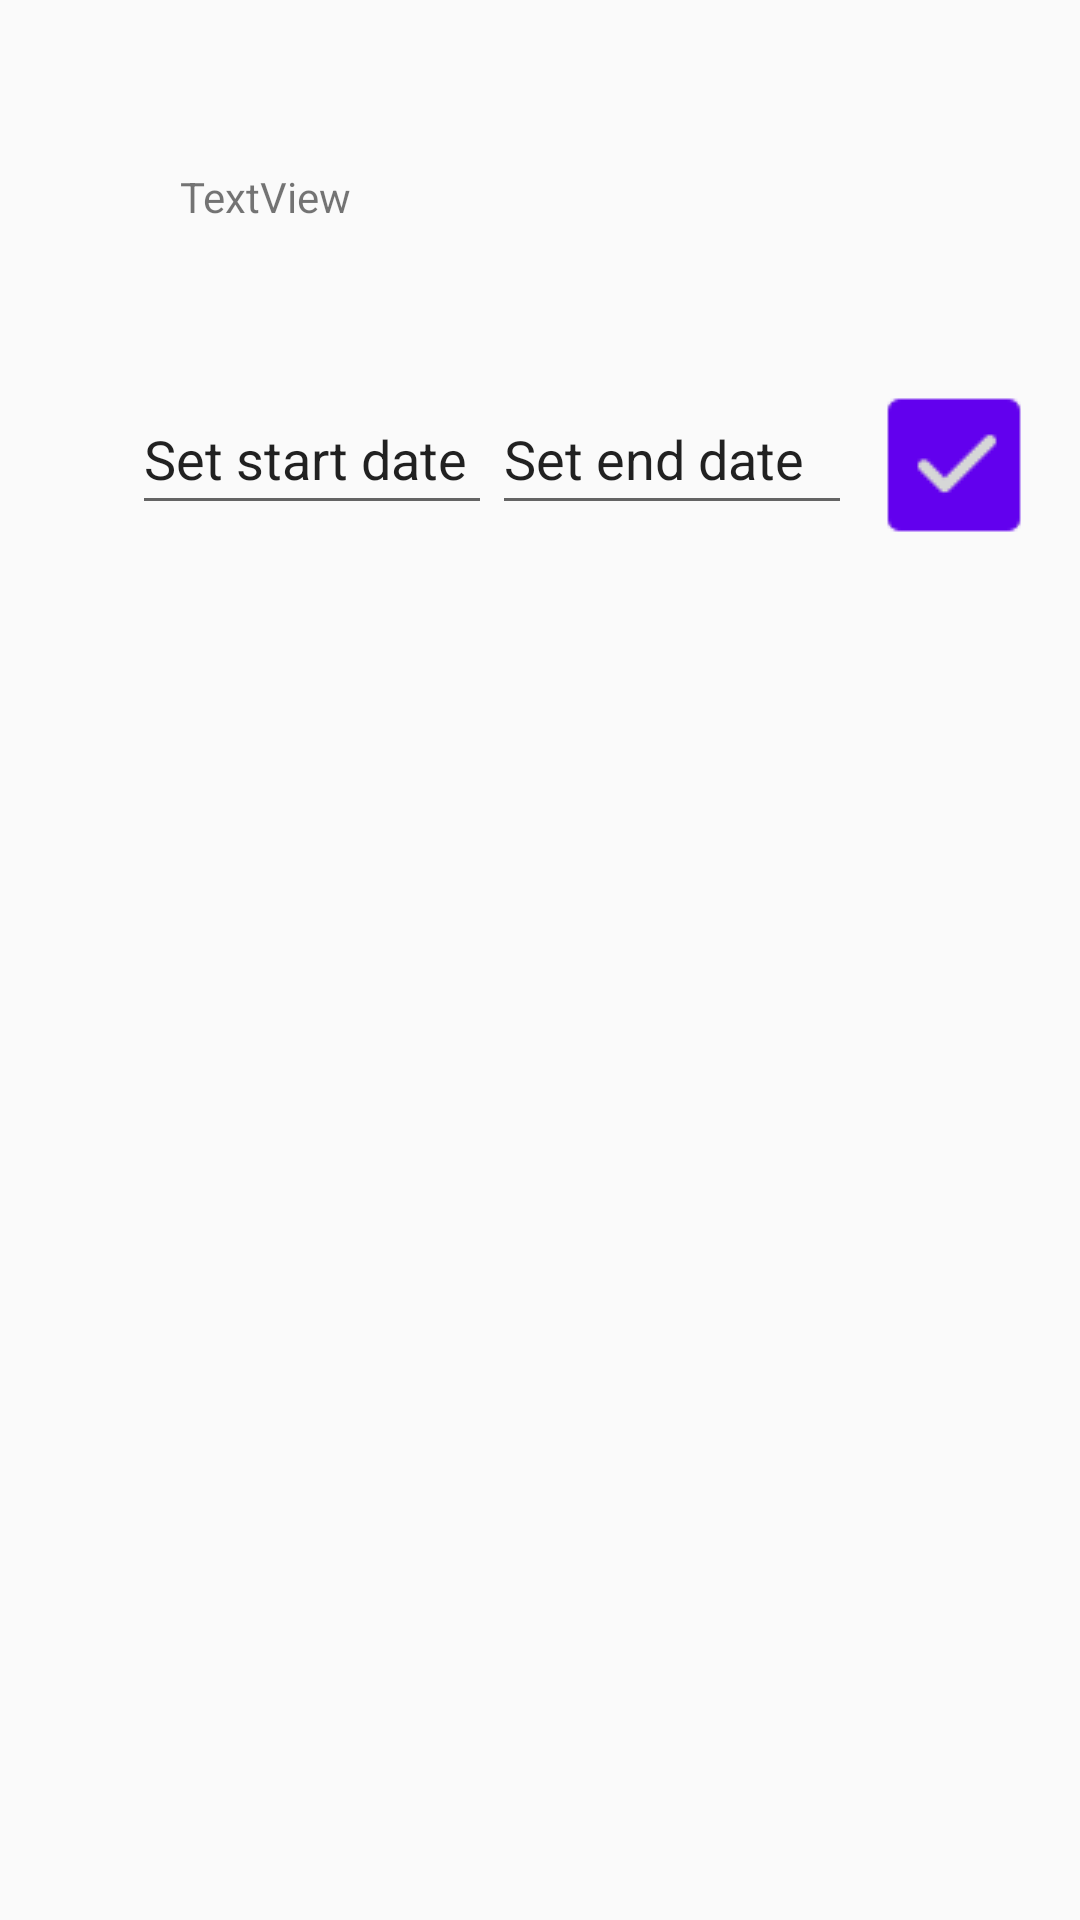

Screen size 1080w x 1920h. Icon name, then its box in pixels as (x1, y1, x2, y2):
check mark: (887, 398, 1021, 532)
